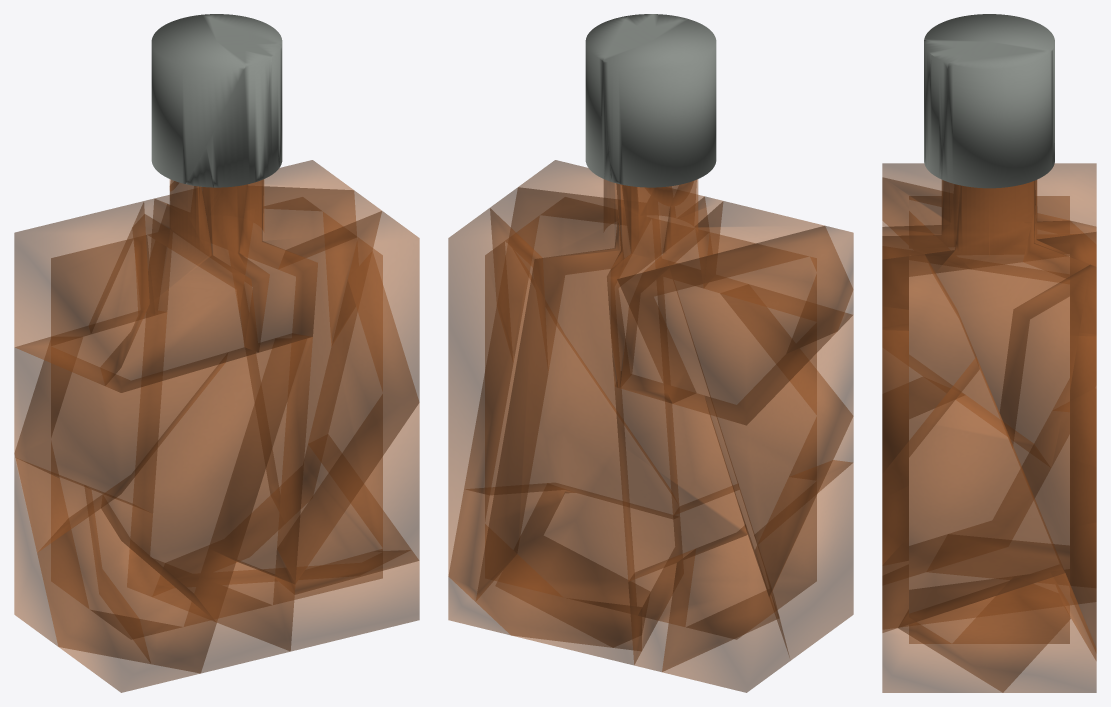
Rendered from fragments.glb.
3 renders of one model, left to right at view 1: azimuth 30°, elevation 25°; view 2: azimuth 150°, elevation 25°; view 3: azimuth 270°, elevation 25°, orthographic.
Parts seen in each view (by area): view 1: fragment-008-amber, fragment-016-amber, fragment-007-amber, fragment-006-amber, fragment-002-amber, fragment-017-amber, fragment-009-amber, fragment-000-amber, fragment-015-amber, fragment-004-amber, fragment-014-amber, fragment-005-amber (+11 smaller); view 2: fragment-002-amber, fragment-010-amber, fragment-000-amber, fragment-009-amber, fragment-006-amber, fragment-012-amber, fragment-004-amber, fragment-016-amber, fragment-001-metal, fragment-008-amber, fragment-007-amber, fragment-015-amber (+9 smaller); view 3: fragment-007-amber, fragment-010-amber, fragment-011-amber, fragment-006-amber, fragment-008-amber, fragment-012-amber, fragment-011-metal, fragment-013-amber, fragment-018-amber, fragment-017-amber, fragment-002-amber, fragment-000-amber (+9 smaller).
Boxes of the visible parts, x1,y1,x2,y2 form: fragment-008-amber: [277, 211, 419, 583]; fragment-016-amber: [101, 338, 306, 622]; fragment-007-amber: [275, 280, 419, 594]; fragment-006-amber: [14, 337, 227, 552]; fragment-002-amber: [150, 187, 270, 562]; fragment-017-amber: [37, 495, 216, 692]; fragment-009-amber: [91, 181, 258, 392]; fragment-000-amber: [14, 201, 149, 385]; fragment-015-amber: [91, 490, 295, 673]; fragment-004-amber: [14, 312, 166, 512]; fragment-014-amber: [14, 457, 150, 663]; fragment-005-amber: [209, 333, 312, 584]; fragment-002-amber: [475, 216, 641, 665]; fragment-010-amber: [448, 208, 547, 601]; fragment-000-amber: [617, 226, 853, 425]; fragment-009-amber: [620, 179, 853, 403]; fragment-006-amber: [705, 294, 853, 597]; fragment-012-amber: [448, 489, 649, 647]; fragment-004-amber: [614, 374, 747, 581]; fragment-016-amber: [677, 286, 853, 534]; fragment-001-metal: [603, 18, 716, 187]; fragment-008-amber: [511, 160, 671, 489]; fragment-007-amber: [464, 273, 673, 518]; fragment-015-amber: [628, 490, 778, 671]; fragment-007-amber: [882, 357, 1065, 632]; fragment-010-amber: [999, 264, 1096, 652]; fragment-011-amber: [925, 181, 1089, 444]; fragment-006-amber: [909, 269, 1069, 443]; fragment-008-amber: [882, 254, 979, 564]; fragment-012-amber: [898, 564, 1096, 692]; fragment-011-metal: [940, 50, 1053, 188]; fragment-013-amber: [882, 565, 1070, 692]; fragment-018-amber: [882, 180, 1088, 330]; fragment-017-amber: [909, 395, 1033, 545]; fragment-002-amber: [1023, 206, 1096, 660]; fragment-000-amber: [882, 163, 1096, 282].
Size of the model in its own units: 0.0542 by 0.1 by 0.0336.
Materials: 2 (2 with a texture image).
